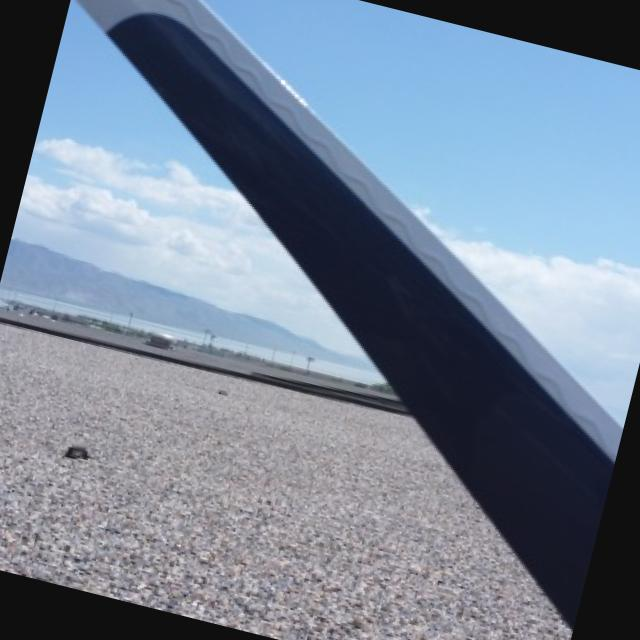healthy: (0, 490, 457, 640)
